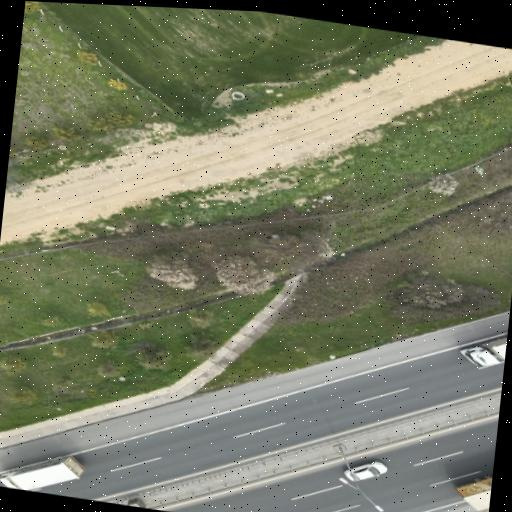car: (344, 461, 387, 480)
truck: (0, 456, 84, 489), (461, 336, 506, 366), (456, 476, 492, 509)
